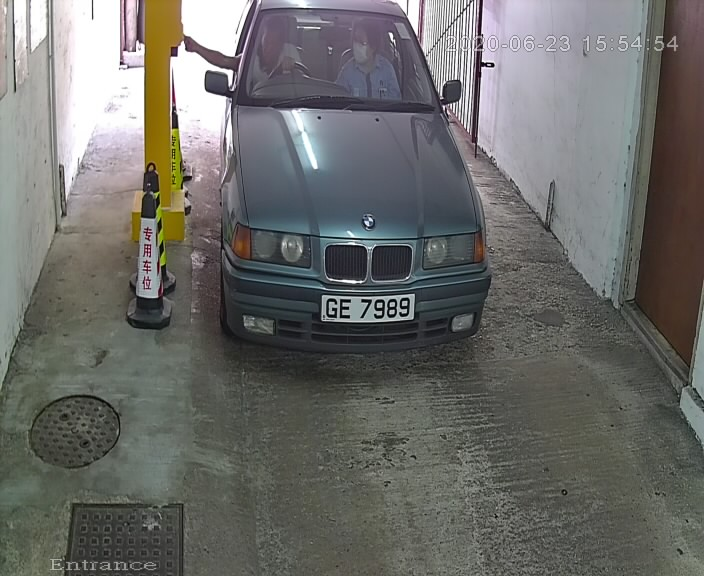privatecar: (165, 1, 514, 364)
